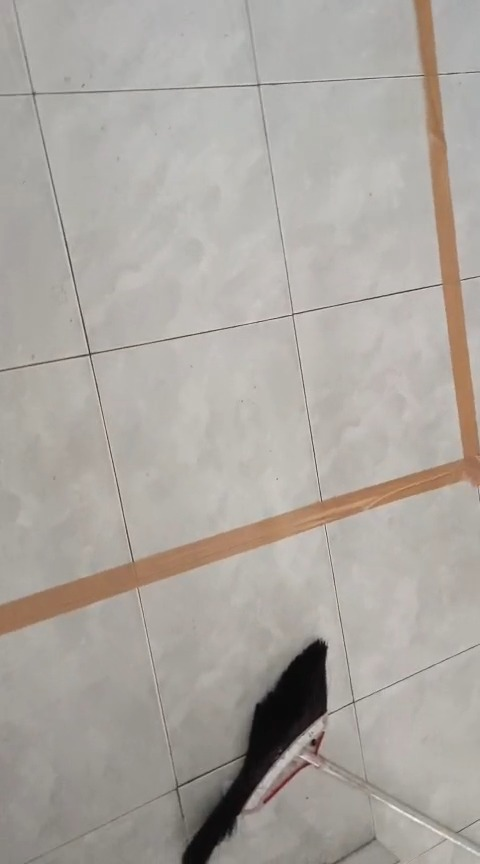floor marking: (0, 0, 479, 635)
